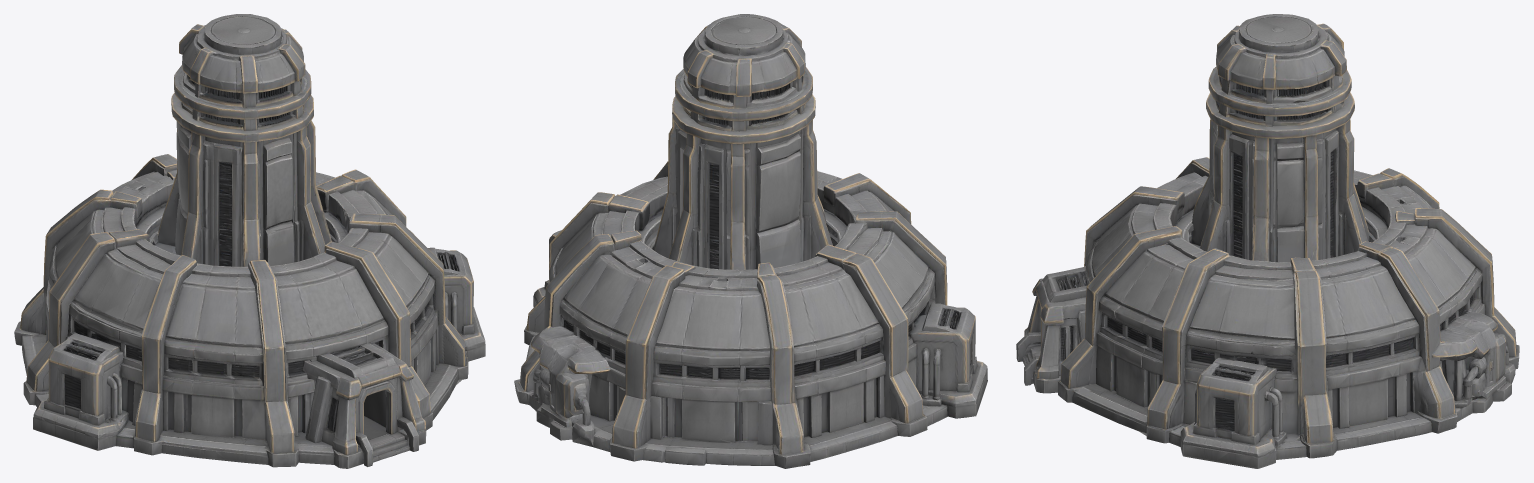
Rendered from imperial_power_plant.glb.
3 views of the same model, side by side, from view 1: azimuth 30°, elevation 25°; view 2: azimuth 150°, elevation 25°; view 3: azimuth 270°, elevation 25° (orthographic).
Parts seen in each view (by area): view 1: mesh_node; view 2: mesh_node; view 3: mesh_node.
Part boxes in pixels (x1,y1,x2,y2): mesh_node: (14, 14, 485, 468); mesh_node: (514, 14, 987, 468); mesh_node: (1016, 14, 1519, 468).
Size of the model in its own units: 29.87 by 21.95 by 29.87.
1 material, 1 textured.
